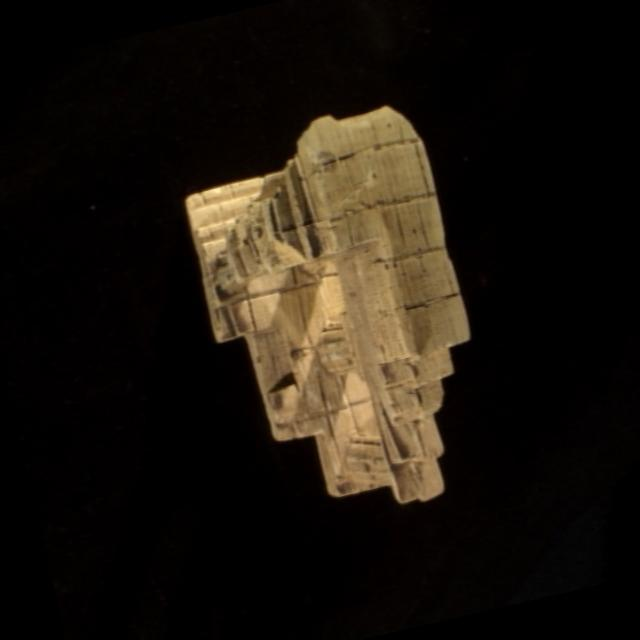Instance-Segmentation: (184, 106, 468, 501)
